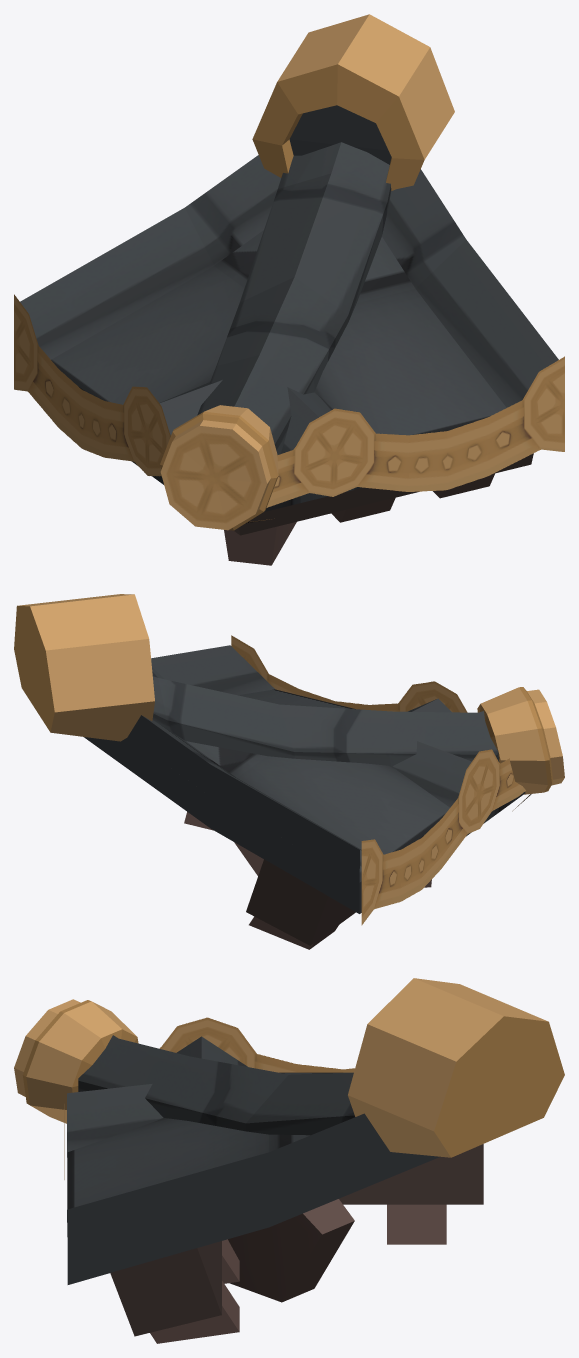
The model's file is SM_Bld_Roof_Corner_Small_01.fbx.
The picture shows the model from 3 angles, top to bottom: view 1: azimuth 30°, elevation 25°; view 2: azimuth 150°, elevation 25°; view 3: azimuth 270°, elevation 25°; orthographic projection. The views are drawn at different scales.
Visible parts, largest first — view 1: SM_Bld_Roof_Corner_Small_01; view 2: SM_Bld_Roof_Corner_Small_01; view 3: SM_Bld_Roof_Corner_Small_01.
Boxes of the visible parts, box(x1,y1,x2,y2) form: SM_Bld_Roof_Corner_Small_01: box(14, 14, 564, 565); SM_Bld_Roof_Corner_Small_01: box(14, 594, 564, 949); SM_Bld_Roof_Corner_Small_01: box(14, 978, 564, 1343).
Bounding box in the file's own units: 161 × 121 × 162.
